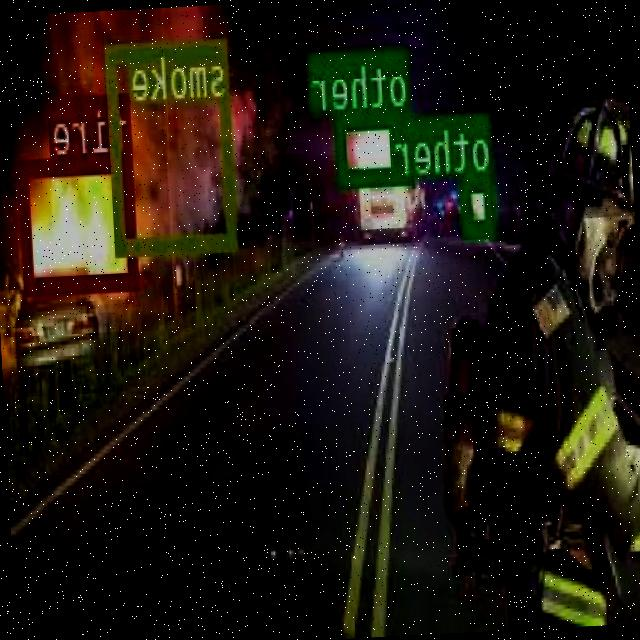fire: (19, 152, 141, 292)
smoke: (109, 35, 240, 252)
